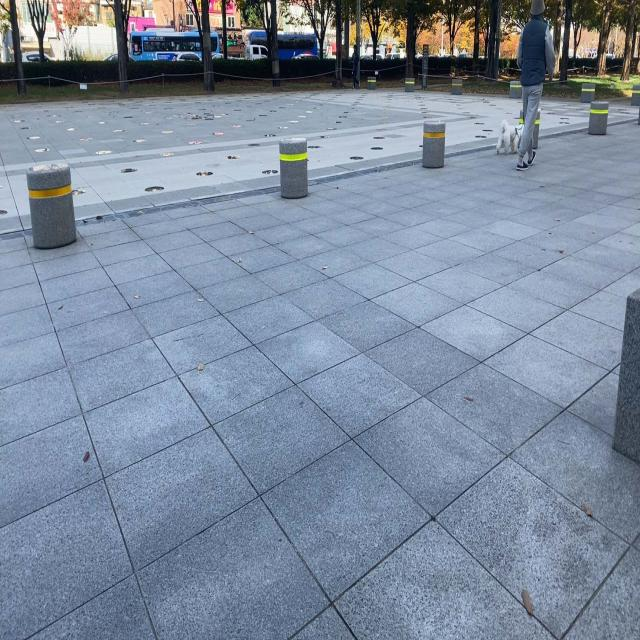Leashed_Dog: (496, 81, 532, 157)
